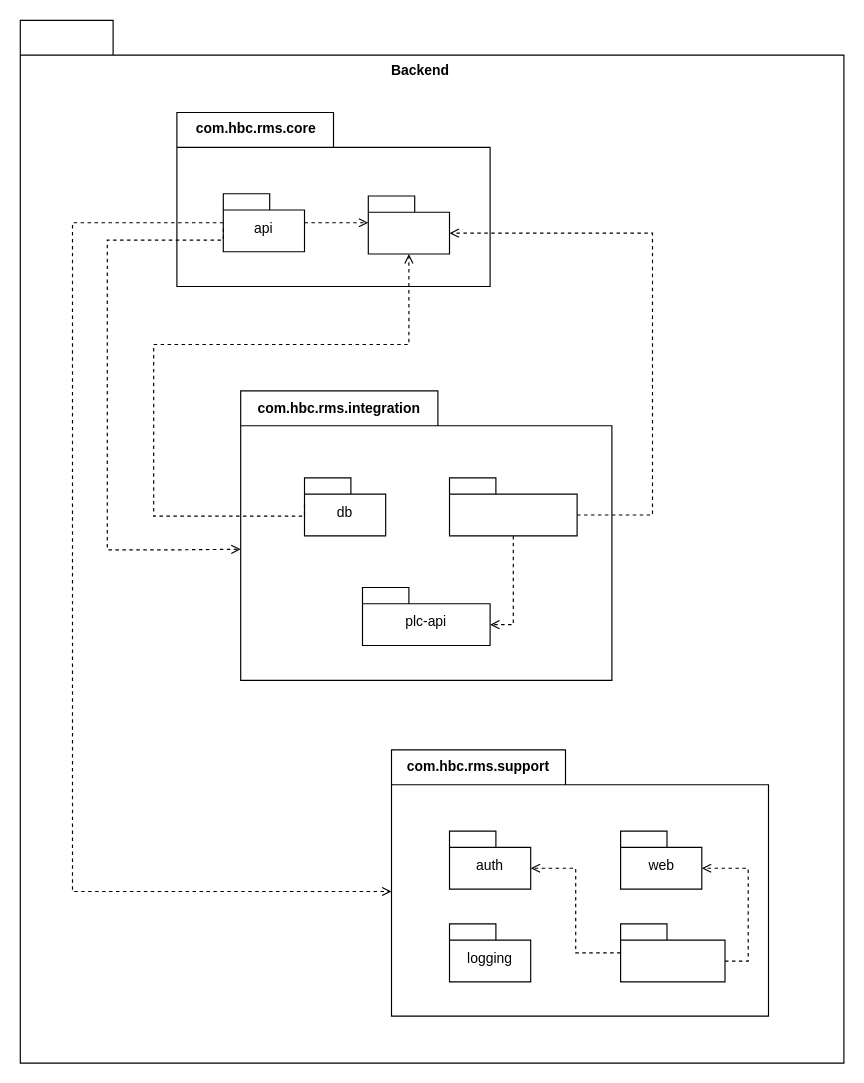
The diagram is 864 pixels wide and 1083 high, and some of its shapes have lost their labels. The shapes that lost their labels are listed below. From the top down, each one's centre as x and y in pixels, then its label:
At point (408, 224): "model".
At point (512, 506): "plc-Integration".
At point (672, 952): "spock-test".
